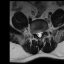CCS_normal: (38, 30, 40, 40)
LFS_stenosis: (42, 28, 45, 34)
LLS_normal: (40, 29, 42, 38)
RFS_severe_stenosis: (34, 30, 36, 35)
RLS_normal: (36, 30, 38, 38)
